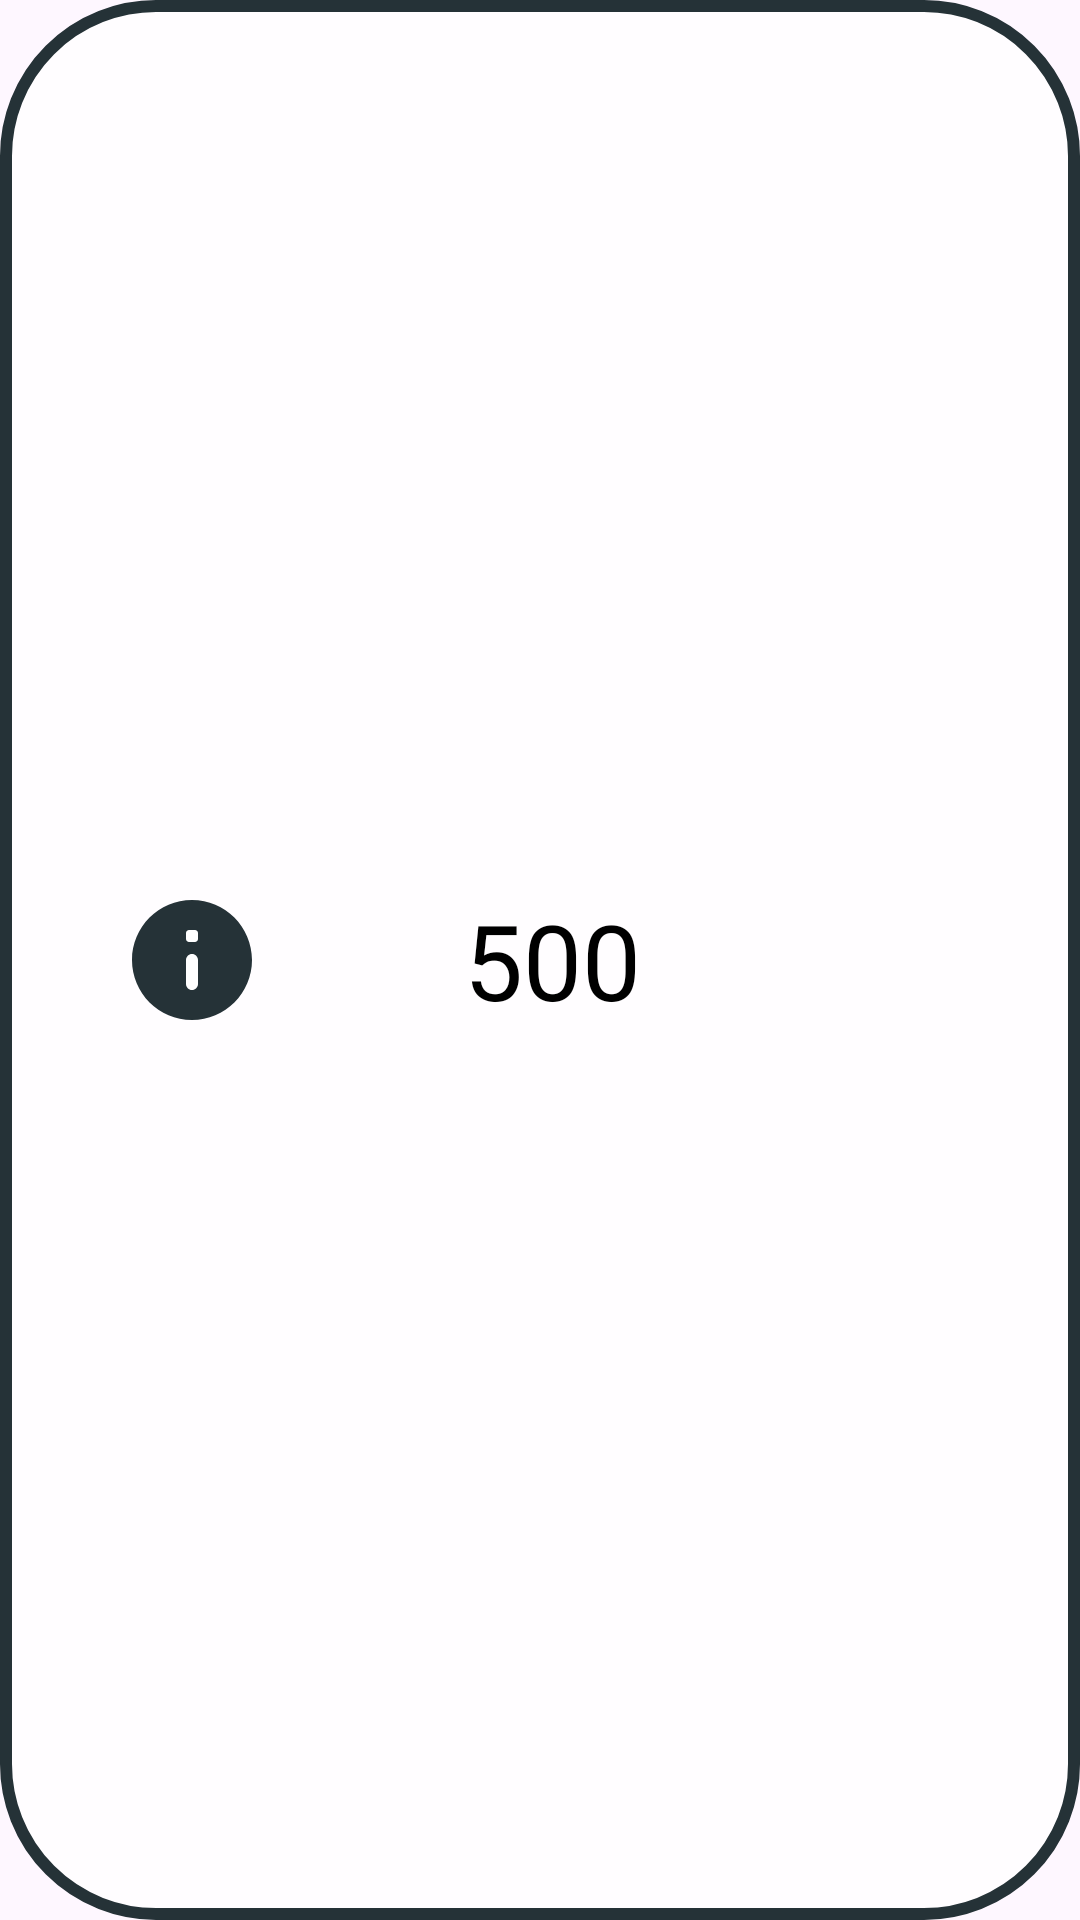

Screen size 1080 × 1920. Icon name, then its box in pixels as box(x1, y1, x2, y2):
custom faq: box(132, 900, 252, 1020)
